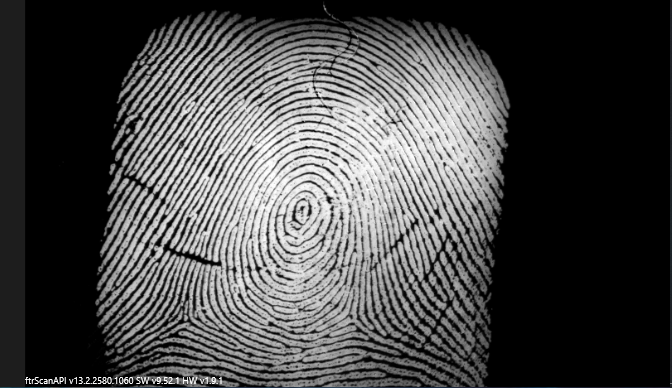nucelo: (282, 195, 324, 231)
verticilo: (332, 303, 369, 337), (166, 307, 198, 332)
